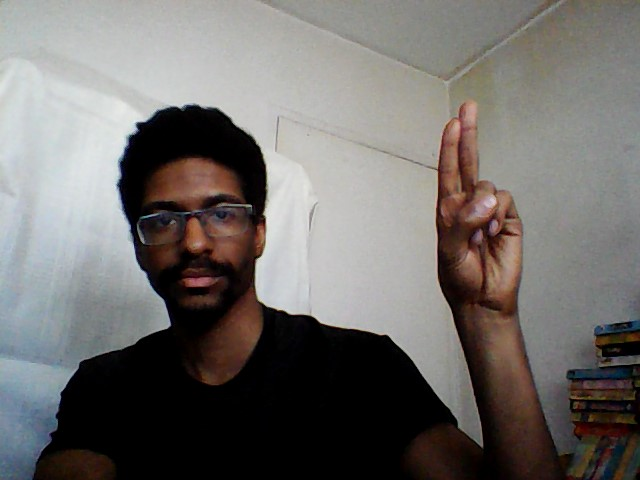u: (431, 94, 527, 316)
